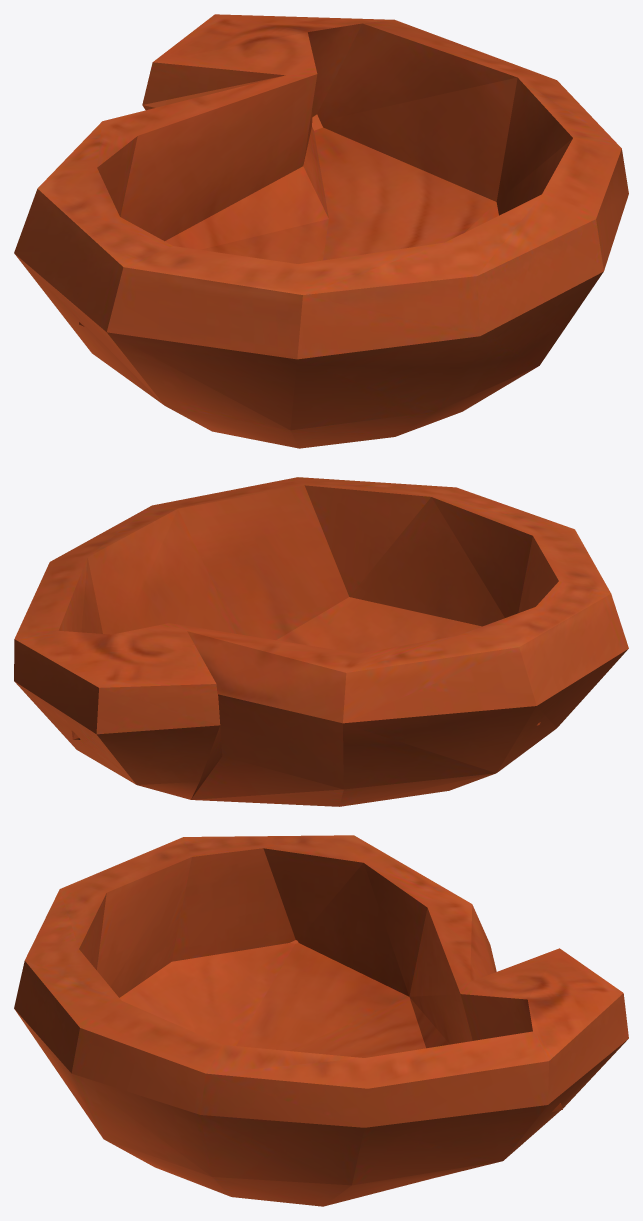
File: diya_clay_04.glb
3 views of the same model, one above another, from view 1: azimuth 30°, elevation 25°; view 2: azimuth 150°, elevation 25°; view 3: azimuth 270°, elevation 25° (orthographic). The views are drawn at different scales.
Visible parts, largest first — view 1: diya_mesh; view 2: diya_mesh; view 3: diya_mesh.
Part boxes in pixels (left/top/right/bottom): diya_mesh: left=14, top=14, right=628, bottom=448; diya_mesh: left=14, top=477, right=628, bottom=806; diya_mesh: left=14, top=835, right=628, bottom=1206.
Size of the model in its own units: 0.2632 by 0.101 by 0.2817.
1 material, 1 textured.
